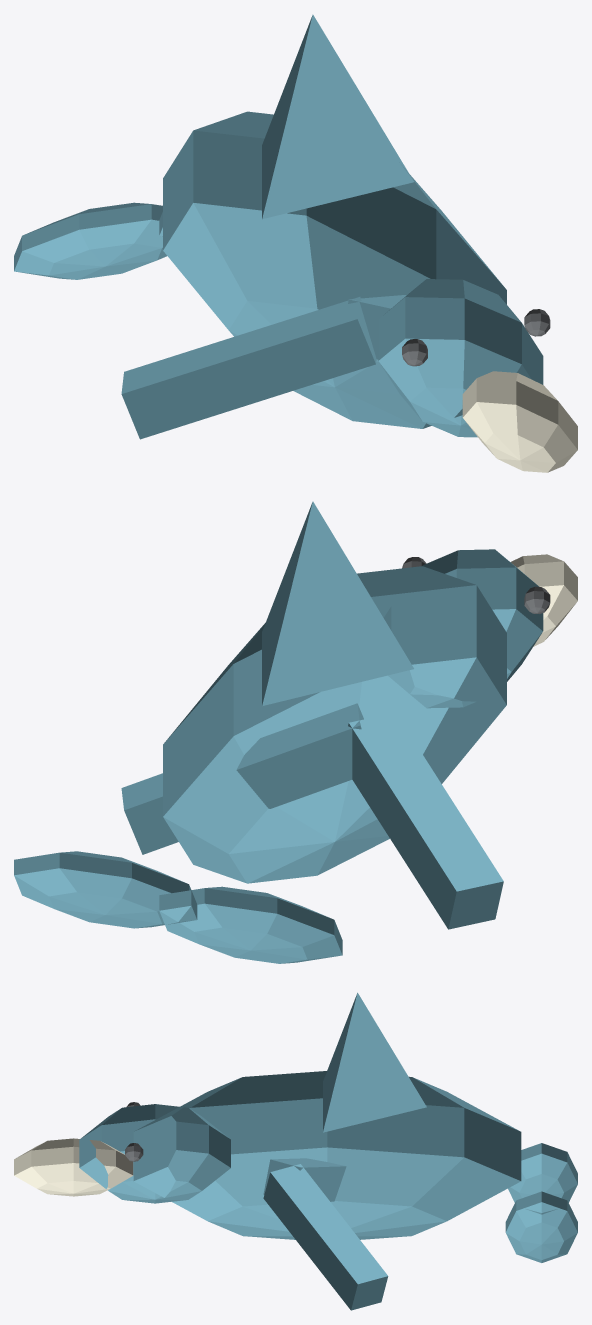
The model's file is tidal-harbour-dolphin__255.glb.
3 renders of one model, top to bottom at view 1: azimuth 30°, elevation 25°; view 2: azimuth 150°, elevation 25°; view 3: azimuth 270°, elevation 25°, orthographic. The views are drawn at different scales.
Parts seen in each view (by area): view 1: tidal-observatory-harbour-dolphin; view 2: tidal-observatory-harbour-dolphin; view 3: tidal-observatory-harbour-dolphin.
Part boxes in pixels (left/top/right/bottom): tidal-observatory-harbour-dolphin: left=14, top=14, right=577, bottom=472; tidal-observatory-harbour-dolphin: left=14, top=501, right=577, bottom=963; tidal-observatory-harbour-dolphin: left=14, top=992, right=577, bottom=1310.
Bounding box in the file's own units: 1 × 0.9462 × 1.87.
